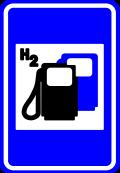Petrol Pump- Gas Station: (9, 20, 113, 139)
